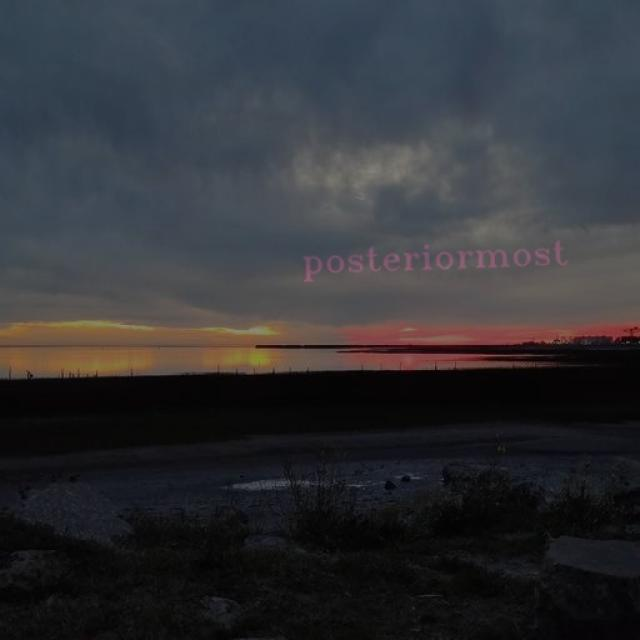watermark: (293, 238, 567, 278)
